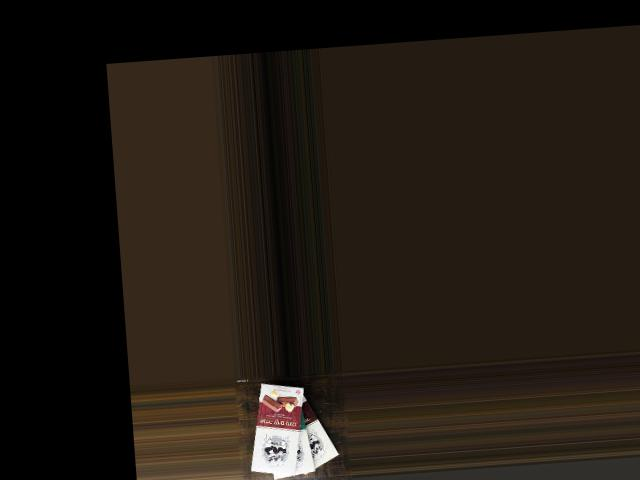chocolate: (274, 379, 341, 478)
